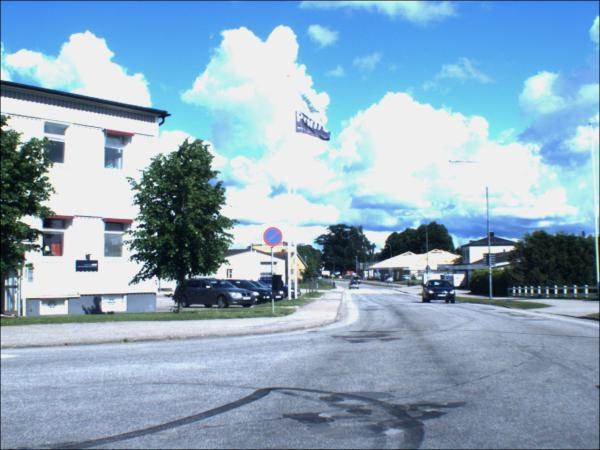NO_PARKING: (262, 225, 284, 249)
PRIORITY_ROAD: (331, 275, 335, 279)
